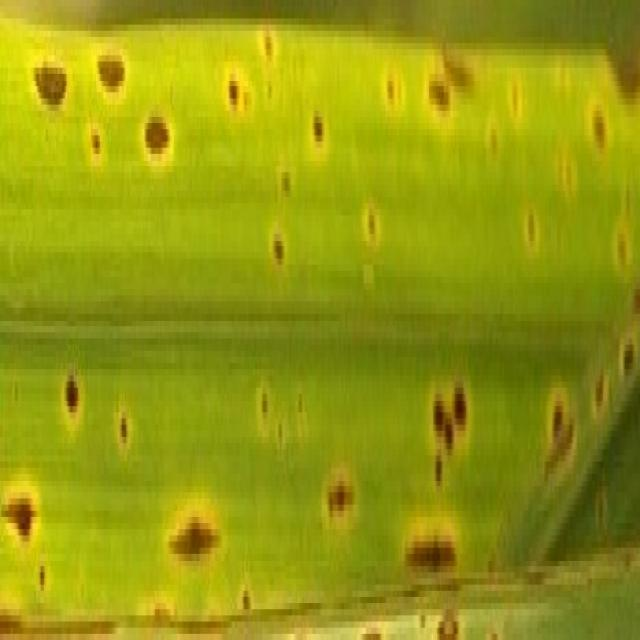Brownspot: (170, 517, 219, 560), (405, 536, 455, 571), (545, 420, 574, 475), (2, 496, 35, 541), (34, 62, 66, 108), (609, 54, 639, 103), (442, 49, 473, 91), (327, 478, 354, 517), (97, 53, 124, 92), (144, 116, 169, 155), (428, 77, 450, 112), (363, 203, 379, 248), (591, 108, 606, 151), (595, 484, 606, 540), (453, 383, 467, 427), (509, 79, 523, 122), (64, 373, 78, 415), (437, 611, 458, 639), (594, 373, 608, 414), (524, 207, 537, 251), (616, 228, 629, 268), (552, 399, 565, 439), (621, 339, 635, 375), (433, 395, 445, 435), (227, 76, 240, 111), (443, 413, 454, 454), (486, 123, 499, 157), (271, 232, 284, 265), (312, 112, 324, 145), (385, 76, 397, 107), (89, 127, 101, 156), (262, 30, 273, 61), (118, 412, 128, 444), (434, 452, 442, 486), (241, 589, 252, 612), (280, 171, 290, 196), (260, 389, 268, 418), (632, 287, 640, 315), (361, 628, 381, 639), (38, 565, 45, 590)
